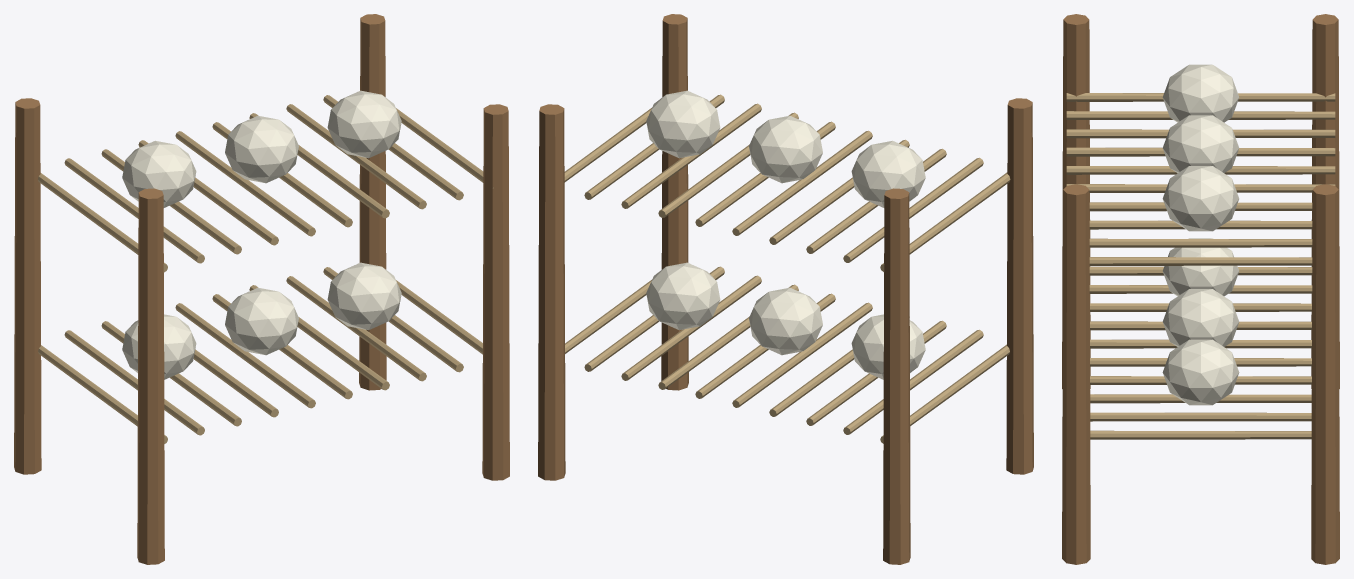
3 renders of one model, left to right at view 1: azimuth 30°, elevation 25°; view 2: azimuth 150°, elevation 25°; view 3: azimuth 270°, elevation 25°, orthographic.
Visible parts, largest first — view 1: CE-025 Ventilated salt-cake drying rack batched; view 2: CE-025 Ventilated salt-cake drying rack batched; view 3: CE-025 Ventilated salt-cake drying rack batched.
Boxes of the visible parts, x1,y1,x2,y2 form: CE-025 Ventilated salt-cake drying rack batched: (14,14,509,564); CE-025 Ventilated salt-cake drying rack batched: (538,14,1033,564); CE-025 Ventilated salt-cake drying rack batched: (1062,14,1339,564).
Bounding box in the file's own units: 0.9 × 0.85 × 0.58.
